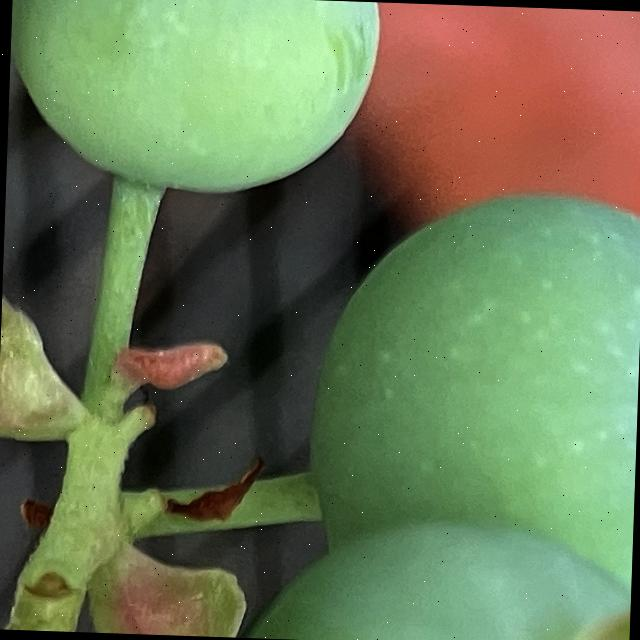Blueberries: (4, 0, 407, 215)
